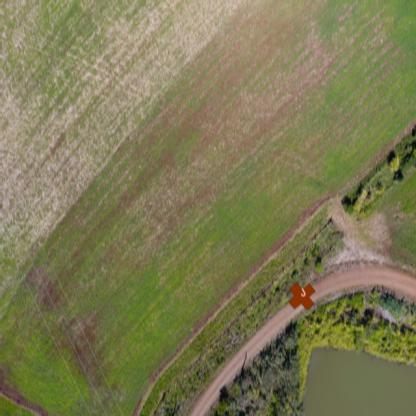J: (300, 286, 308, 298)
plus: (287, 281, 317, 312)
